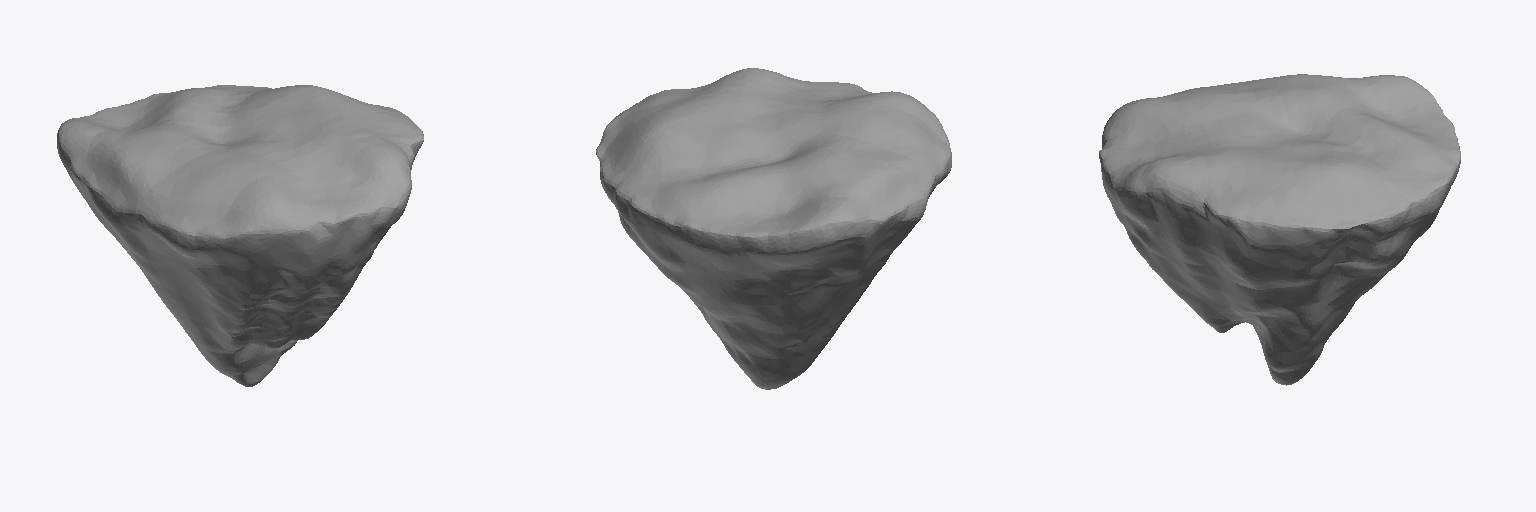
File: IslandUV.obj
The picture shows the model from 3 angles: view 1: azimuth 30°, elevation 25°; view 2: azimuth 150°, elevation 25°; view 3: azimuth 270°, elevation 25°; orthographic projection.
Visible parts, largest first — view 1: Cone; view 2: Cone; view 3: Cone.
Part boxes in pixels (x1,y1,x2,y2): Cone: (57, 85, 423, 386); Cone: (596, 68, 951, 389); Cone: (1099, 74, 1460, 385).
Bounding box in the file's own units: 1.93 × 1.58 × 2.